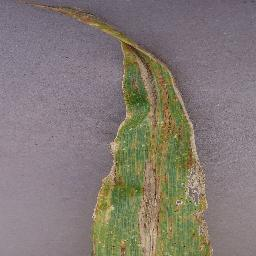Corn_Blight: (26, 0, 224, 146), (82, 147, 234, 256)
